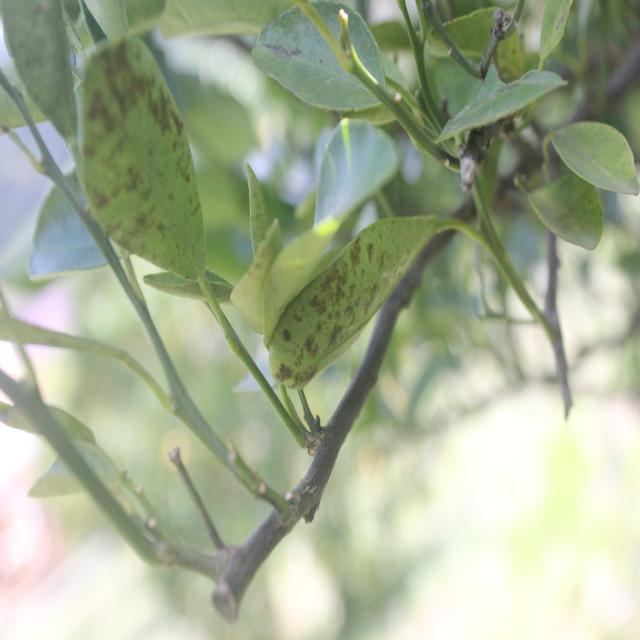melanose: (266, 206, 468, 401), (75, 40, 212, 294)
